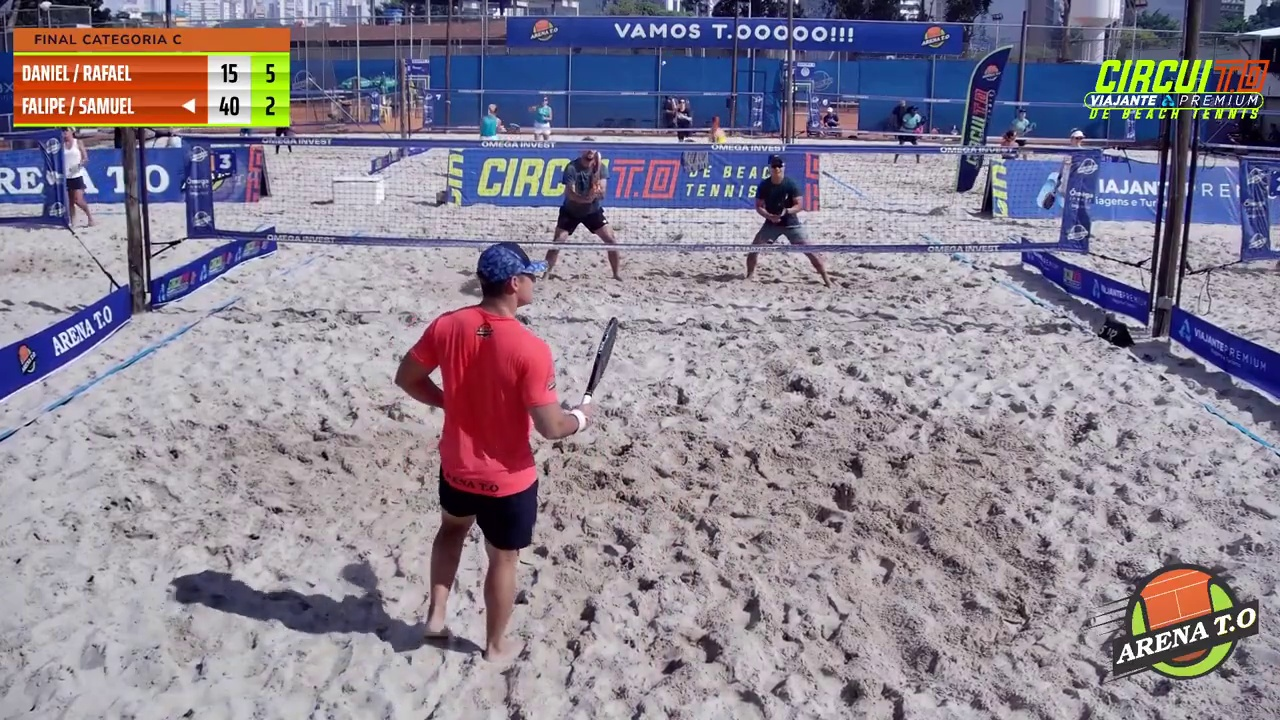court_line: (379, 0, 570, 533), (634, 0, 812, 514)
